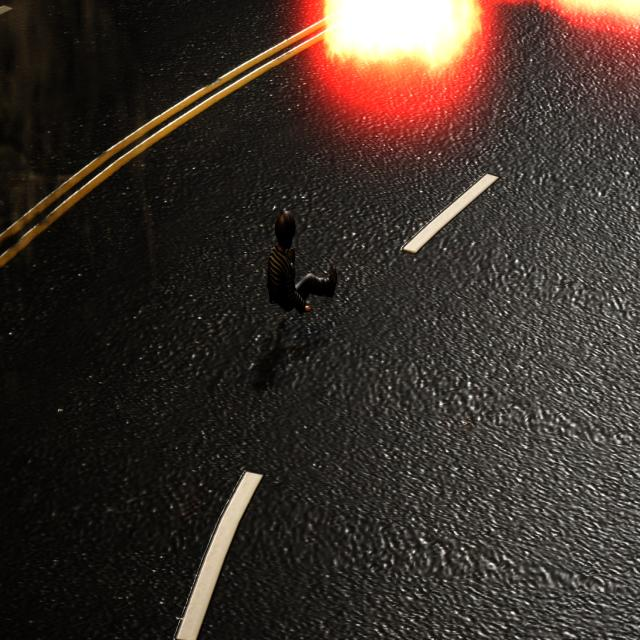Human: (262, 207, 340, 321)
